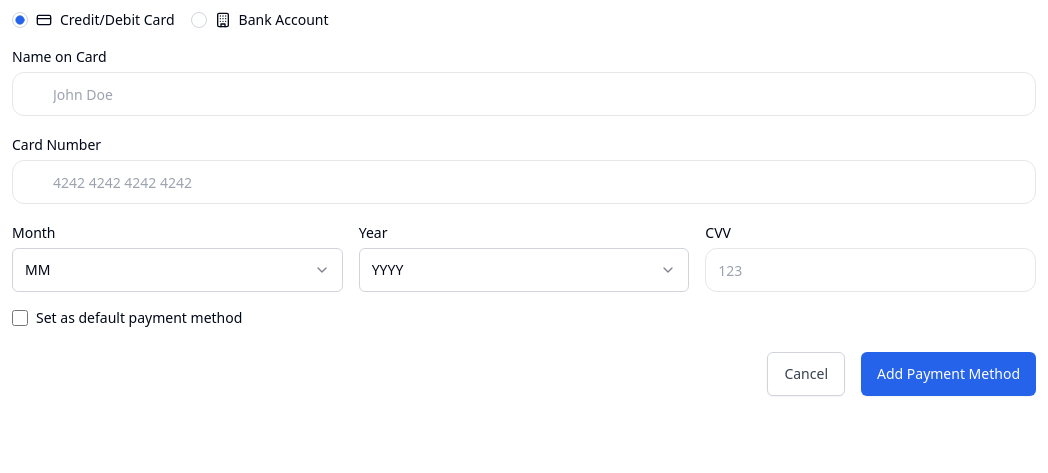
Test: PaymentMethodForm Component › Form Interactions - Bank › limits account number to 17 digits
Click the radio button named "Bank Account" next to "Bank Account": (199, 20) [191,12,207,28]
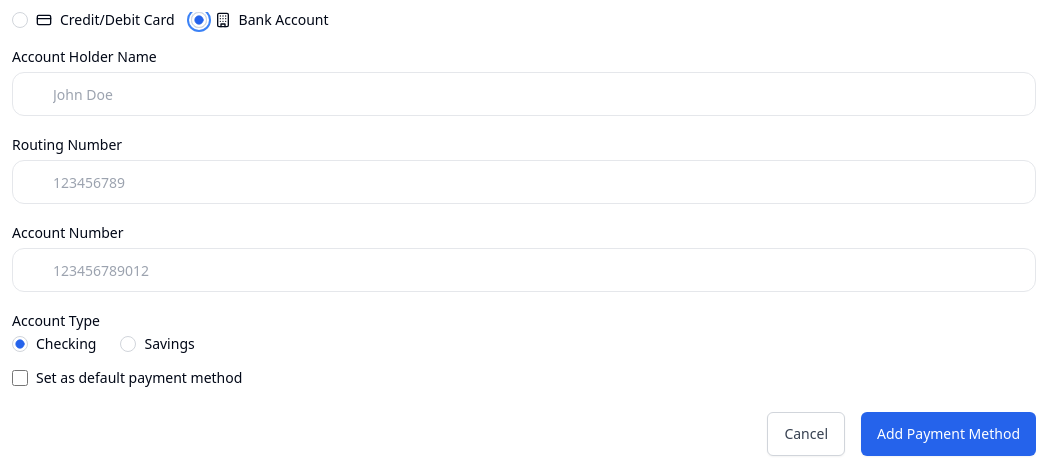
In the field labelled "Account Number": (524, 270) [12,248,1036,292], type "12345678901234567890"
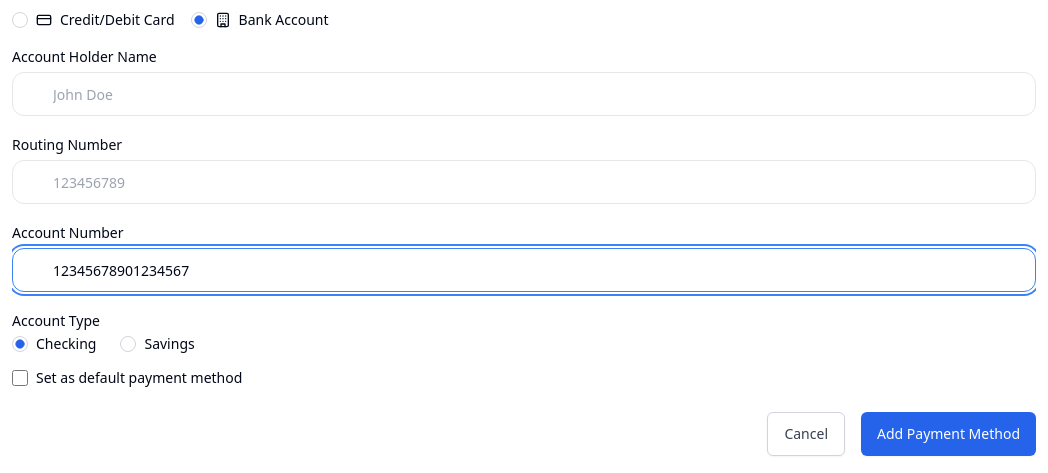
Now the field labelled "Account Number" holds "12345678901234567", box [12,248,1036,292]
